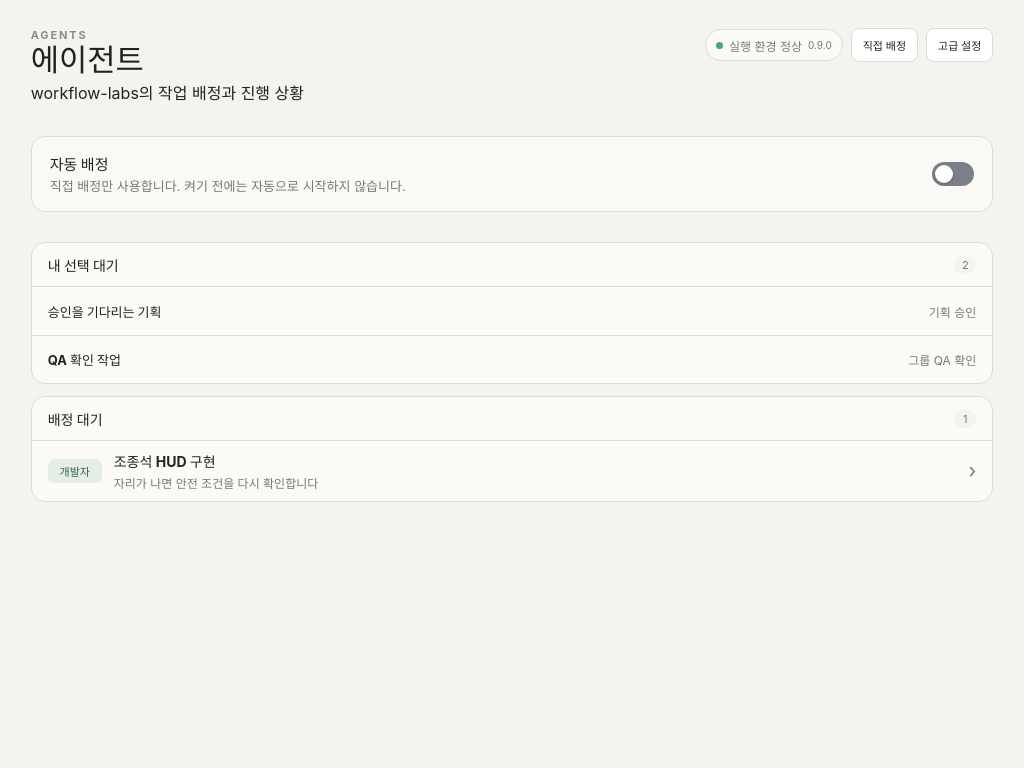
Test: AgentRuntimeView cockpit › shows only eligible work by title and keeps technical IDs behind advanced disclosure
This screenshot has width=1024, height=768.
Check: the heading "배정 대기" is shown, box x1=48 y1=409 x2=102 y2=429
Check: the text "조종석 HUD 구현" is shown, box x1=114 y1=453 x2=216 y2=470
Click the button "직접 배정".
click(884, 45)  # box x1=851 y1=28 x2=918 y2=62
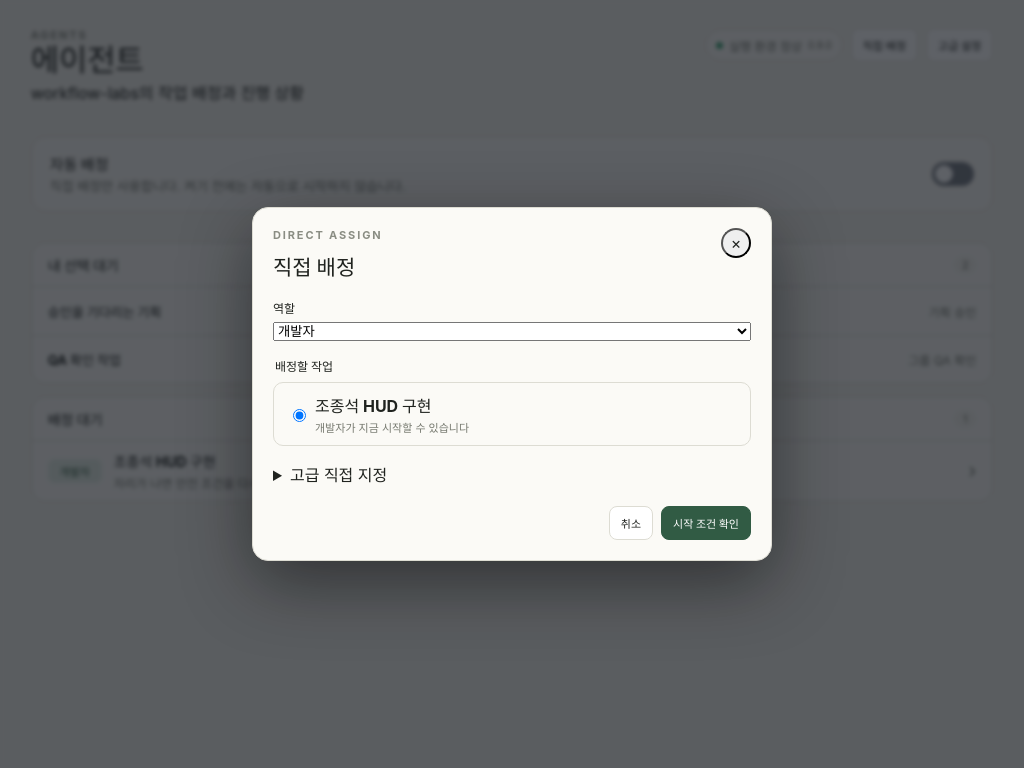
Check: the field with placeholder "TASK-…" is not shown
Check: the text "조종석 HUD 구현" is shown, box x1=315 y1=396 x2=431 y2=416
Click the heading "고급 직접 지정".
click(339, 475)  # box x1=290 y1=465 x2=387 y2=485
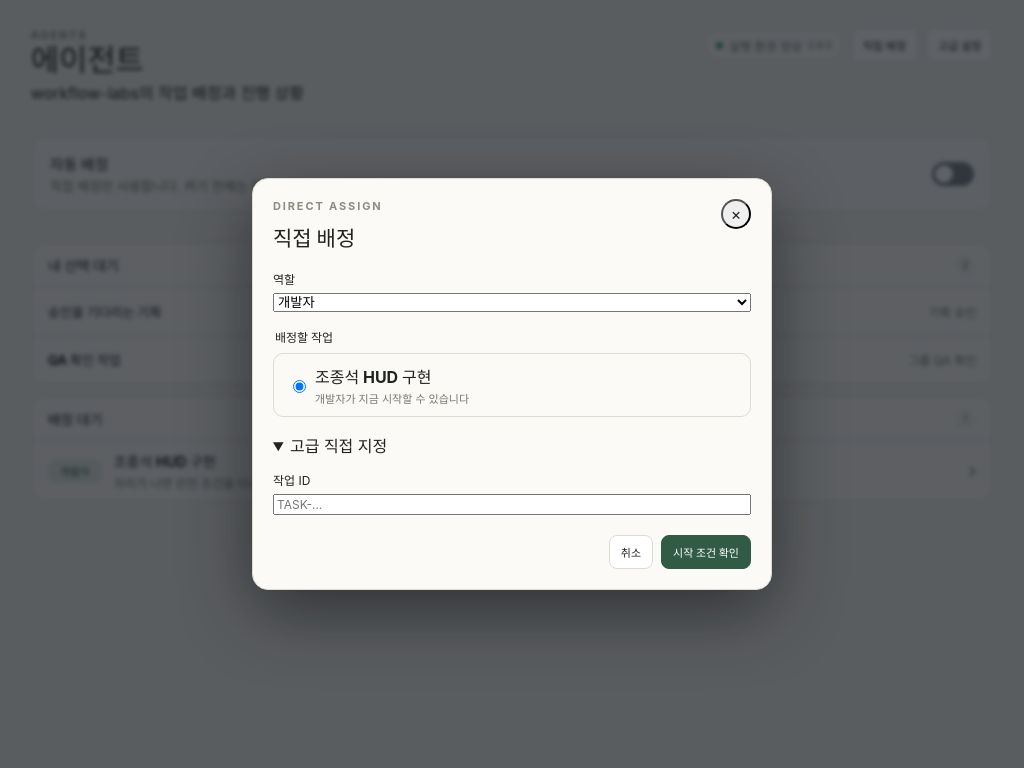
Check: the field with placeholder "TASK-…" is shown, box x1=273 y1=494 x2=751 y2=515
